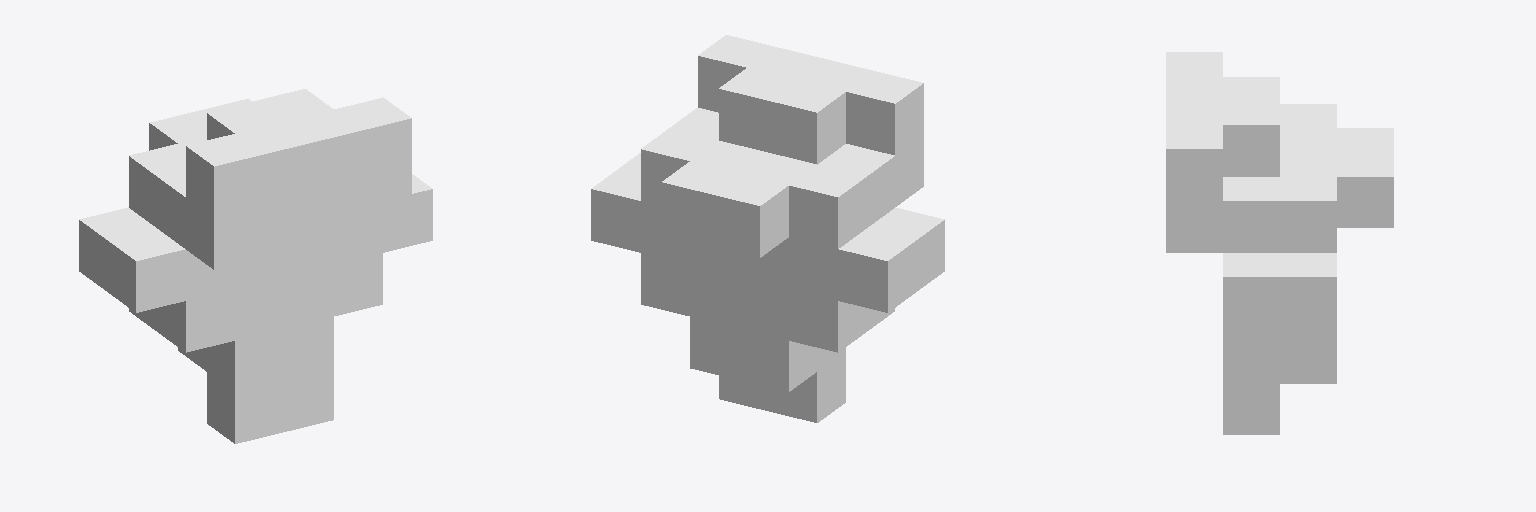
The model's file is scummBarPirateKing03_head.obj.
The picture shows the model from 3 angles: view 1: azimuth 30°, elevation 25°; view 2: azimuth 150°, elevation 25°; view 3: azimuth 270°, elevation 25°; orthographic projection.
Size of the model in its own units: 6 by 6 by 4.